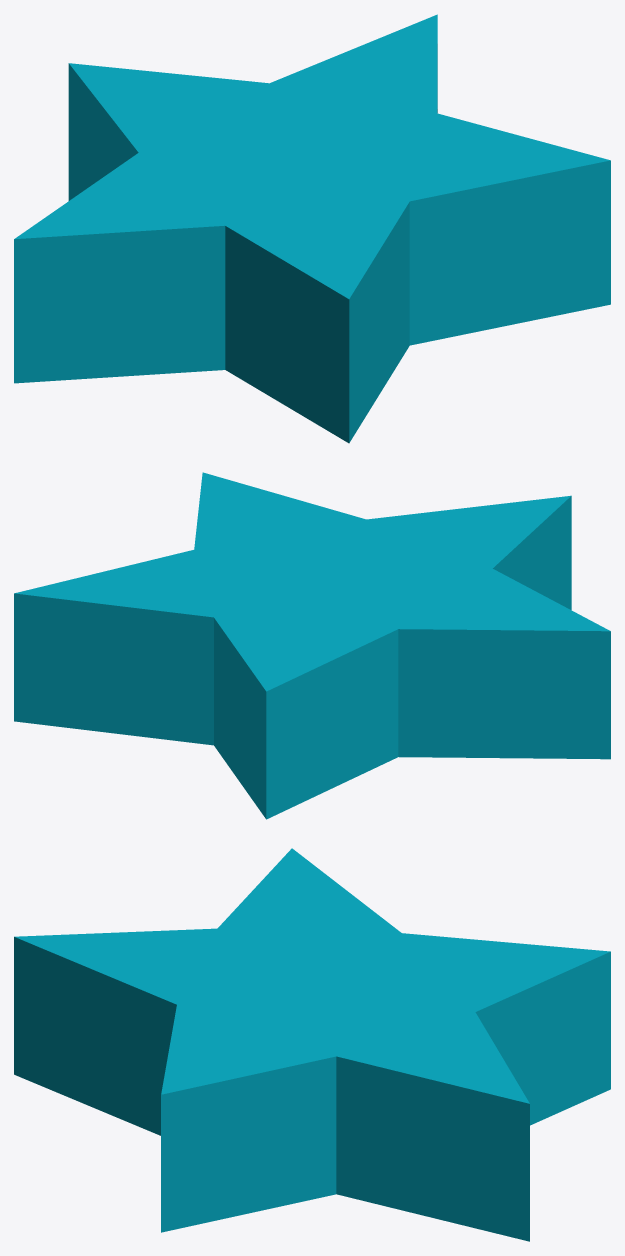
The model's file is YellowStar.glb.
3 views of the same model, one above another, from view 1: azimuth 30°, elevation 25°; view 2: azimuth 150°, elevation 25°; view 3: azimuth 270°, elevation 25° (orthographic). The views are drawn at different scales.
Visible parts, largest first — view 1: Mesh_Mesh_head_geo.001_lambert2SG.001; view 2: Mesh_Mesh_head_geo.001_lambert2SG.001; view 3: Mesh_Mesh_head_geo.001_lambert2SG.001.
Part boxes in pixels (x1=…): Mesh_Mesh_head_geo.001_lambert2SG.001: x1=14, y1=14, x2=610, y2=443; Mesh_Mesh_head_geo.001_lambert2SG.001: x1=14, y1=472, x2=610, y2=819; Mesh_Mesh_head_geo.001_lambert2SG.001: x1=14, y1=848, x2=610, y2=1241.
Size of the model in its own units: 0.0398 by 0.01 by 0.0392.
